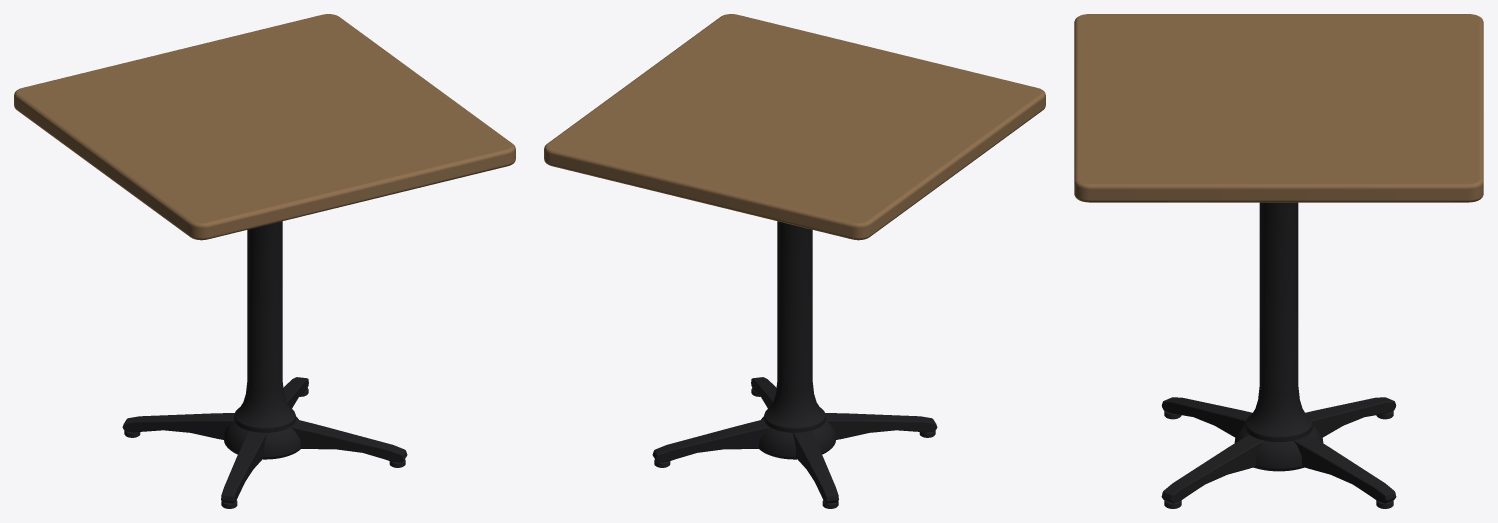
Rendered from table_square.glb.
3 renders of one model, left to right at view 1: azimuth 30°, elevation 25°; view 2: azimuth 150°, elevation 25°; view 3: azimuth 270°, elevation 25°, orthographic. The views are drawn at different scales.
Parts seen in each view (by area): view 1: table_square; view 2: table_square; view 3: table_square.
Boxes of the visible parts, x1,y1,x2,y2 form: table_square: [14, 14, 515, 508]; table_square: [544, 14, 1045, 508]; table_square: [1074, 14, 1483, 508].
Size of the model in its own units: 0.8 by 0.78 by 0.8.
